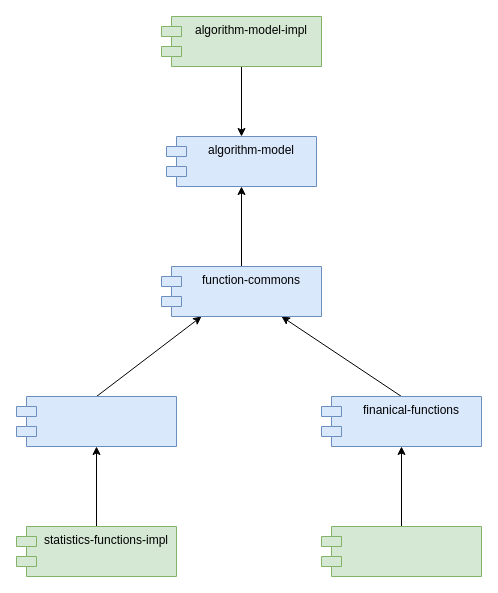
Image size: 498x593. Some labels were removed from this diagram. Here are the shapes that lost their labels. From the top down, the centre of each, then its label:
the point at 96,421: statistics-functions
the point at 401,551: finanical-functions-impl
